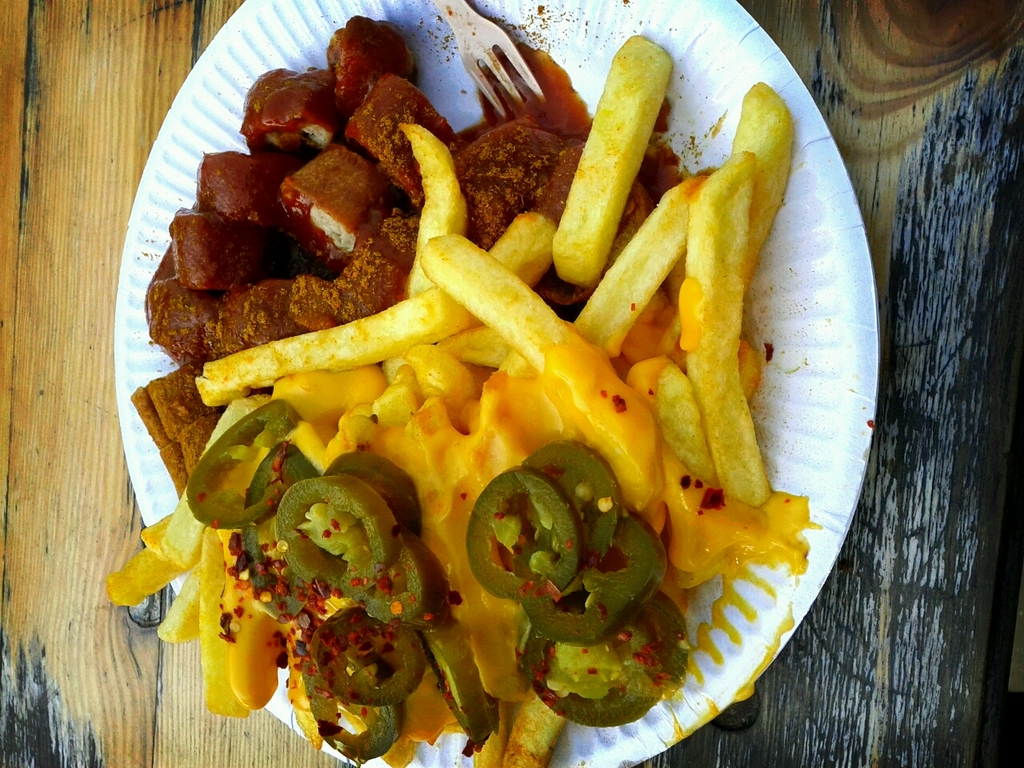French fries: (99, 20, 797, 767)
